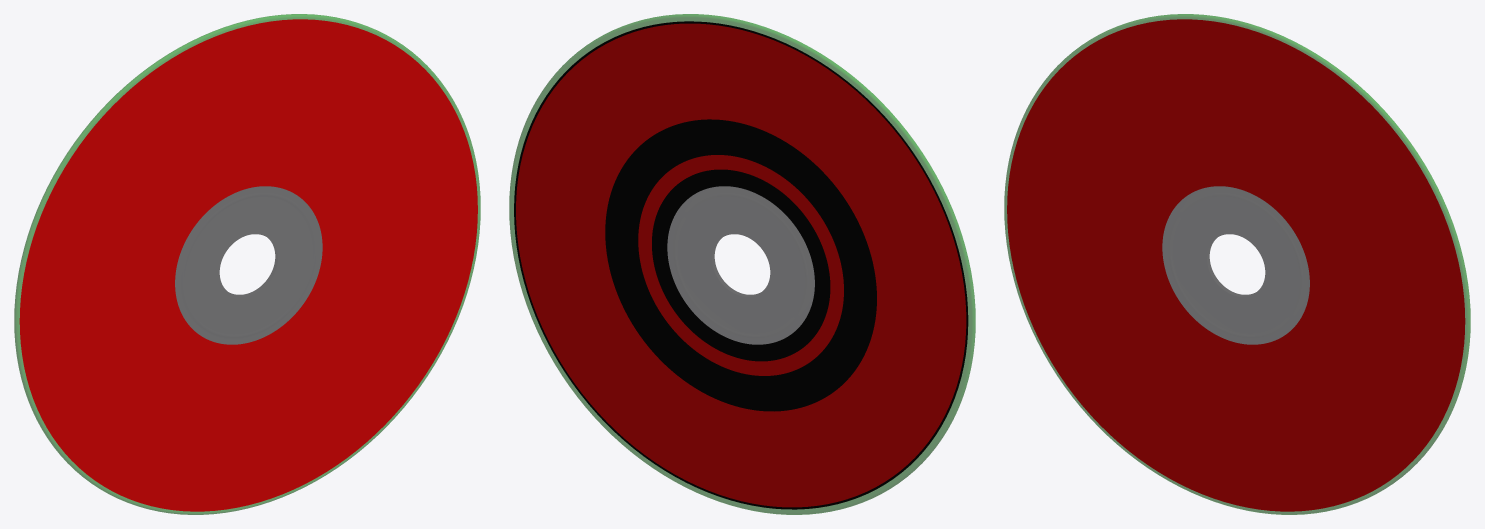
The model's file is dreamcast_gd.glb.
The picture shows the model from 3 angles, left to right: view 1: azimuth 30°, elevation 25°; view 2: azimuth 150°, elevation 25°; view 3: azimuth 330°, elevation 25°; orthographic projection.
Visible parts, largest first — view 1: label, shell; view 2: mirror, shell; view 3: label, shell.
Part boxes in pixels (x1,y1,x2,y2): label: (19,19,477,511); shell: (14,14,480,514); mirror: (514,21,968,509); shell: (509,14,975,514); label: (1007,19,1465,511); shell: (1004,14,1470,514).
Bounding box in the file's own units: 0.12 × 0.12 × 0.0015.
